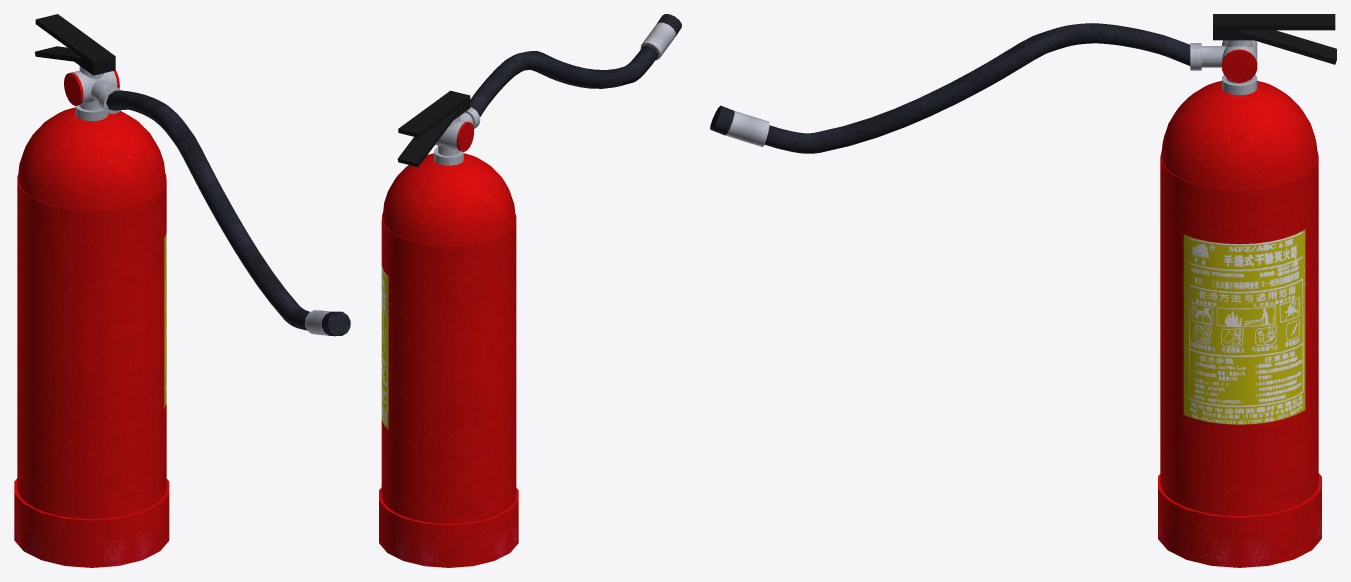
Rendered from 灭火器.FBX.
3 renders of one model, left to right at view 1: azimuth 30°, elevation 25°; view 2: azimuth 150°, elevation 25°; view 3: azimuth 270°, elevation 25°, orthographic. The views are drawn at different scales.
Parts seen in each view (by area): view 1: 灭火器01; view 2: 灭火器01; view 3: 灭火器01.
Part boxes in pixels (x1,y1,x2,y2): 灭火器01: [14, 14, 350, 567]; 灭火器01: [379, 14, 681, 567]; 灭火器01: [710, 14, 1336, 567].
Size of the model in its own units: 0.1503 by 0.511 by 0.566.
7 materials, 7 textured.
